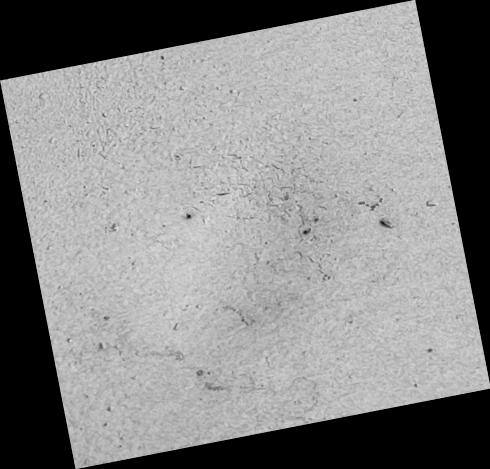dent: (0, 1, 490, 469)
